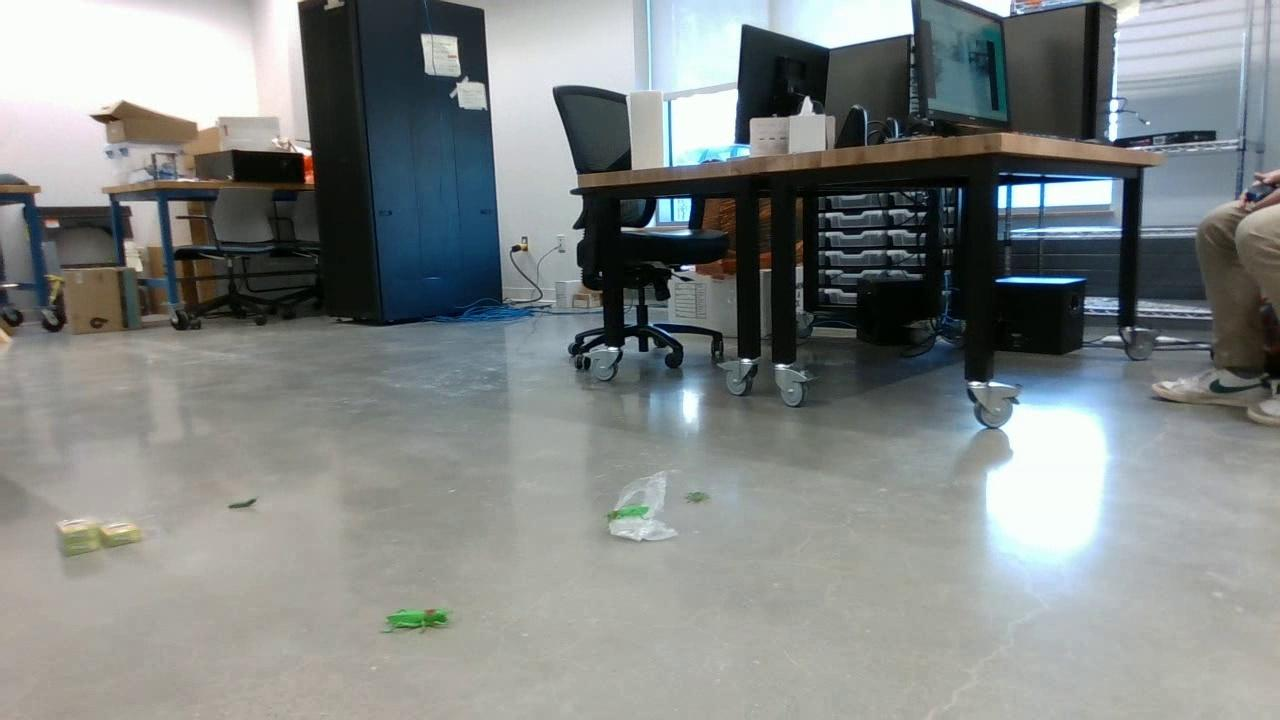grasshopper: (381, 607, 452, 638), (606, 503, 652, 523)
